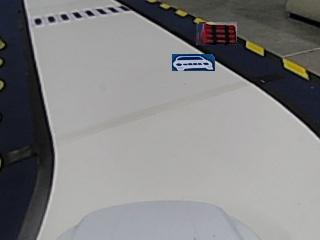crosswalk: (32, 3, 130, 25)
